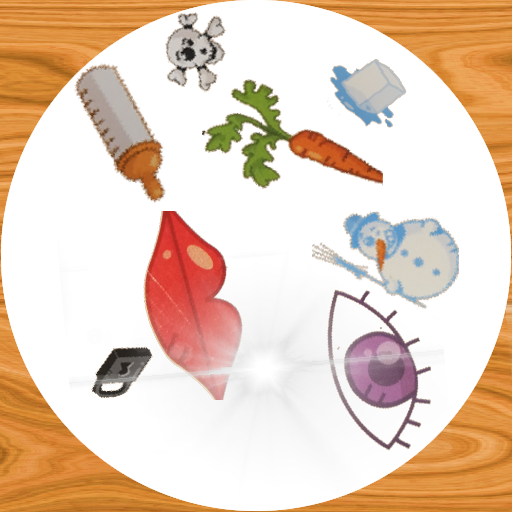bottle_icon: (47, 57, 200, 210)
carrot_icon: (202, 42, 384, 224)
cube_icon: (327, 42, 418, 133)
eye_icon: (287, 282, 459, 454)
lips_icon: (87, 211, 276, 400)
lock_icon: (89, 338, 156, 405)
skull_icon: (150, 4, 239, 93)
snowman_icon: (312, 186, 459, 333)
